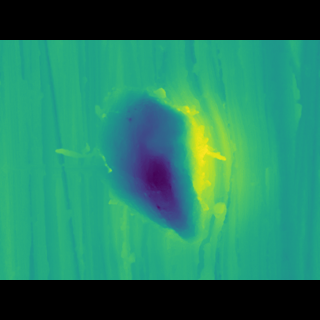Loch: (88, 95, 232, 227)
